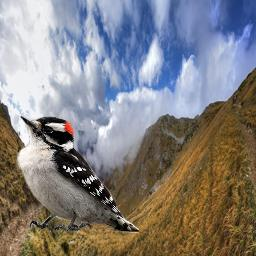Woodpecker: (16, 116, 139, 233)
